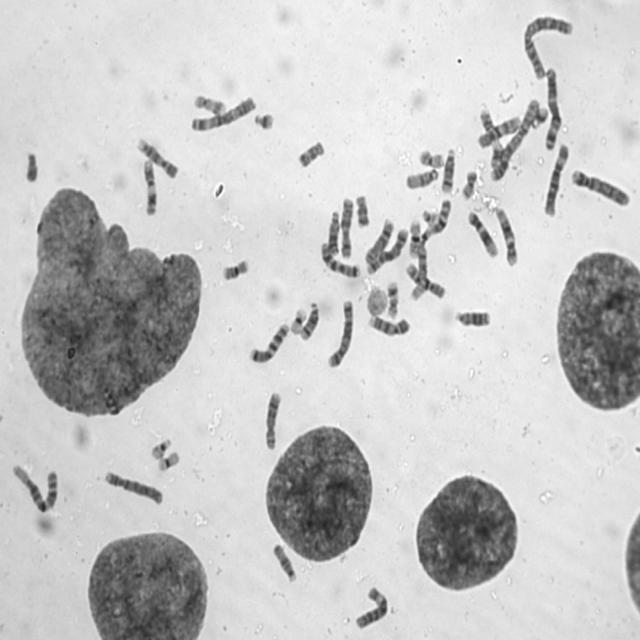A1: (409, 196, 453, 300), (10, 460, 59, 514)
A2: (488, 94, 540, 181), (519, 12, 575, 81)
A3: (187, 92, 257, 134), (542, 64, 562, 150)
B4: (570, 166, 631, 208), (102, 467, 164, 507)
B5: (363, 224, 410, 276), (325, 296, 355, 369)
C10: (474, 112, 521, 150), (403, 260, 446, 301)
C11: (477, 105, 504, 169), (140, 156, 158, 216)
C12: (466, 207, 499, 260), (492, 204, 519, 268)
C6: (541, 141, 570, 218), (352, 583, 390, 631)
C7: (247, 320, 290, 365), (318, 239, 362, 279)
C8: (362, 215, 395, 270), (261, 387, 284, 452)
C9: (135, 136, 179, 180), (366, 312, 412, 338)
D13: (452, 306, 492, 329), (326, 207, 341, 256)
D14: (438, 145, 457, 195), (298, 299, 320, 342)
D15: (270, 540, 298, 584), (403, 166, 440, 192)
E16: (220, 256, 250, 282), (406, 217, 423, 258)
E17: (192, 91, 228, 117), (385, 278, 400, 320)
E18: (294, 136, 326, 170), (353, 192, 371, 229)
F19: (288, 304, 308, 336), (156, 448, 180, 472)
F20: (459, 168, 479, 201), (417, 146, 445, 168)
G21: (530, 103, 550, 130), (252, 109, 276, 131)
G22: (149, 435, 173, 460), (421, 206, 438, 226)
X: (338, 194, 356, 261)
Y: (21, 148, 41, 186)
